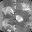people: (3, 6, 15, 16), (2, 18, 12, 28), (15, 15, 24, 22)
